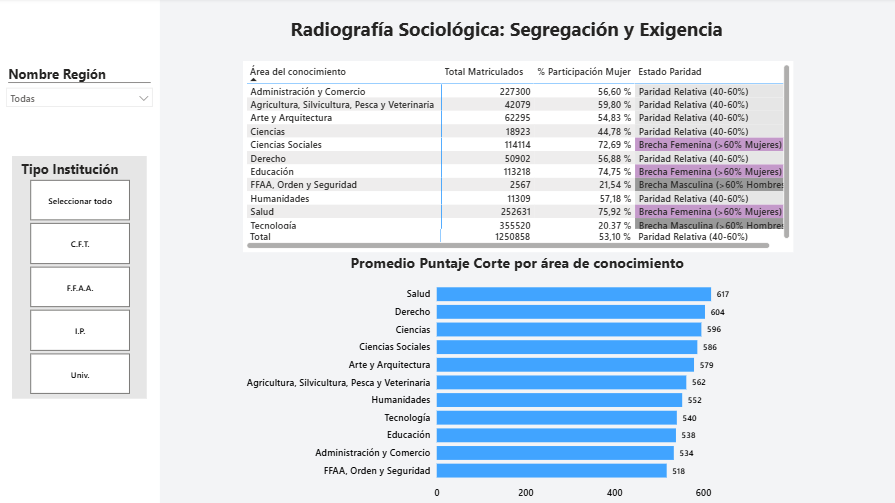

This screenshot's page, from the dashboard's own definition file:
{"tool":"powerbi","page":{"name":"Radiografía Sociológica (Segregación y Exigencia)","canvas":[1280,720],"ordinal":1},"visuals":[{"type":"shape","box":[9.9,0,228.2,721.4],"z":0},{"type":"slicer","fields":{"Values":["dim_geografia.nombre_region"]},"box":[9.9,89.3,228.2,99.2],"z":1000},{"type":"slicer","fields":{"Values":["dim_institucion.tipo_institucion"]},"box":[28.3,223.9,191.3,344.4],"z":2000},{"type":"textbox","box":[418.5,20,655.4,56.9],"z":3000},{"type":"pivotTable","title":"dgm","fields":{"Rows":["dim_carrera.area_conocimiento"],"Values":["_Medidas.Total Matriculados","_Medidas.% Participación Mujer","_Medidas.Estado Paridad"]},"box":[355.4,89.2,780,270.8],"z":4000},{"type":"clusteredBarChart","title":"Promedio Puntaje Corte por área de conocimiento","fields":{"Category":["dim_carrera.area_conocimiento"],"Y":["_Medidas.Promedio Puntaje Corte"]},"box":[355,360,780,360],"z":5000}]}

Visuals, with their boxes on the page's 1280x720 design canvas (x1, y1, x2, y2). These are canvas units, not pixel positions in the 895x503 screenshot, which may show the page scaled, cropped or inside an application window:
shape: {"x1": 10, "y1": 0, "x2": 238, "y2": 721}
slicer - dim_geografia.nombre_region: {"x1": 10, "y1": 89, "x2": 238, "y2": 188}
slicer - dim_institucion.tipo_institucion: {"x1": 28, "y1": 224, "x2": 220, "y2": 568}
textbox: {"x1": 418, "y1": 20, "x2": 1074, "y2": 77}
"dgm" pivotTable: {"x1": 355, "y1": 89, "x2": 1135, "y2": 360}
"Promedio Puntaje Corte por área de conocimiento" clusteredBarChart: {"x1": 355, "y1": 360, "x2": 1135, "y2": 720}
